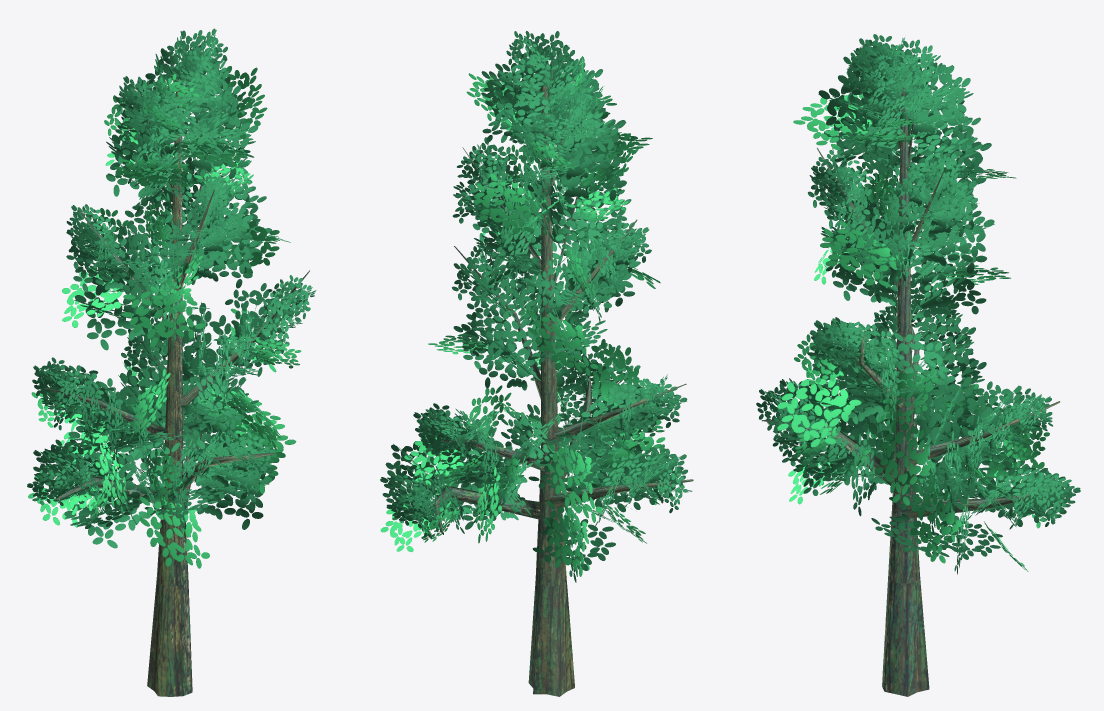
File: small-tree.obj
The picture shows the model from 3 angles, left to right: view 1: azimuth 30°, elevation 25°; view 2: azimuth 150°, elevation 25°; view 3: azimuth 270°, elevation 25°; orthographic projection. The views are drawn at different scales.
Visible parts, largest first — view 1: albero-grande2_leave_jabami_01_mat, albero-grande2_leave_jabami_00_mat, albero-grande2_jabami_tronc_mat; view 2: albero-grande2_leave_jabami_01_mat, albero-grande2_leave_jabami_00_mat, albero-grande2_jabami_tronc_mat; view 3: albero-grande2_leave_jabami_01_mat, albero-grande2_leave_jabami_00_mat, albero-grande2_jabami_tronc_mat.
Boxes of the visible parts, x1=… form: albero-grande2_leave_jabami_01_mat: x1=27, y1=28, x2=316, y2=548; albero-grande2_leave_jabami_00_mat: x1=28, y1=66, x2=301, y2=568; albero-grande2_jabami_tronc_mat: x1=44, y1=48, x2=309, y2=696; albero-grande2_leave_jabami_01_mat: x1=380, y1=31, x2=692, y2=582; albero-grande2_leave_jabami_00_mat: x1=380, y1=56, x2=683, y2=576; albero-grande2_jabami_tronc_mat: x1=433, y1=46, x2=693, y2=696; albero-grande2_leave_jabami_01_mat: x1=756, y1=34, x2=1080, y2=574; albero-grande2_leave_jabami_00_mat: x1=777, y1=39, x2=1072, y2=571; albero-grande2_jabami_tronc_mat: x1=761, y1=49, x2=1060, y2=696.
Size of the model in its own units: 5.08 by 11.07 by 5.19.
